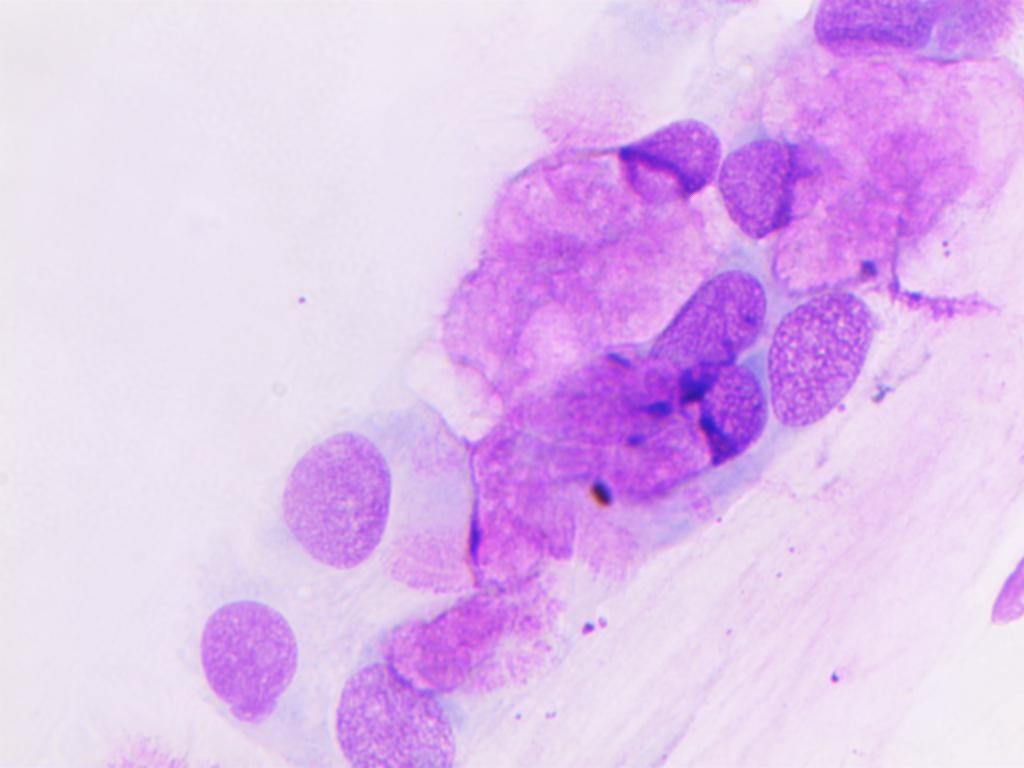epithelial: (247, 396, 458, 586), (172, 562, 308, 742), (762, 285, 888, 438), (787, 0, 963, 73)
goblet_cell: (518, 100, 725, 327), (329, 599, 545, 767), (723, 127, 970, 266), (557, 264, 782, 404), (516, 369, 762, 492)
